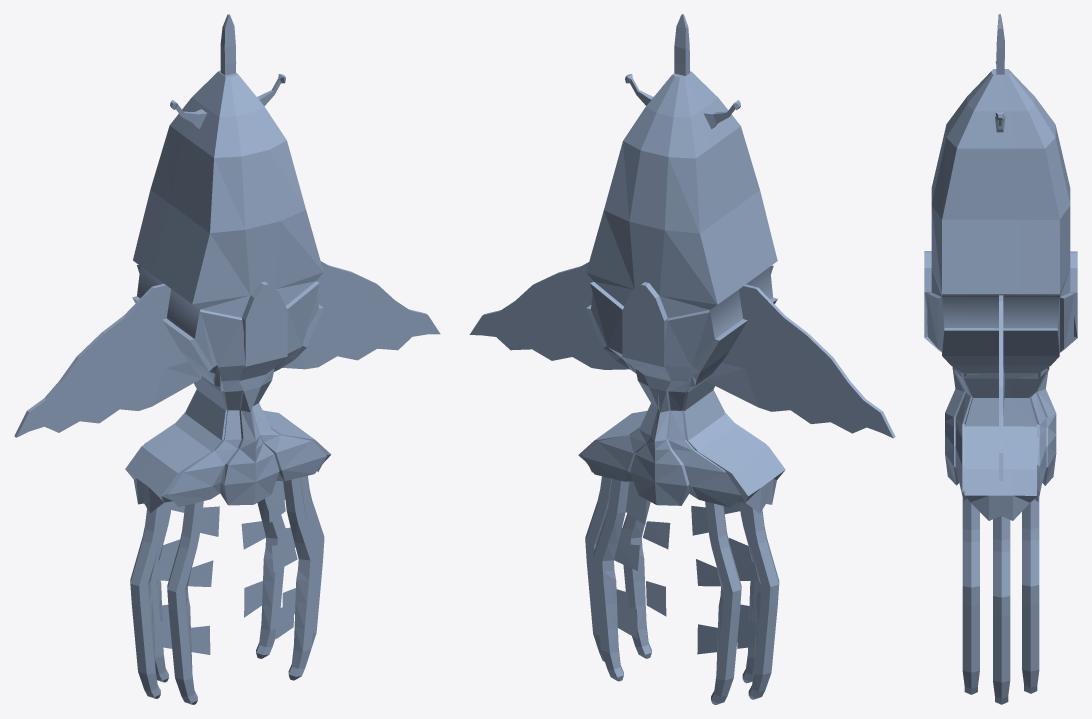
File: Angelfish_Monster_UP.fbx
3 views of the same model, side by side, from view 1: azimuth 30°, elevation 25°; view 2: azimuth 150°, elevation 25°; view 3: azimuth 270°, elevation 25° (orthographic).
Parts seen in each view (by area): view 1: AngelFish_Monster; view 2: AngelFish_Monster; view 3: AngelFish_Monster.
Part boxes in pixels (<box>): AngelFish_Monster: <box>14,14,440,704</box>; AngelFish_Monster: <box>469,14,895,704</box>; AngelFish_Monster: <box>924,14,1077,704</box>.
Size of the model in its own units: 64.9 by 97.53 by 20.66.
